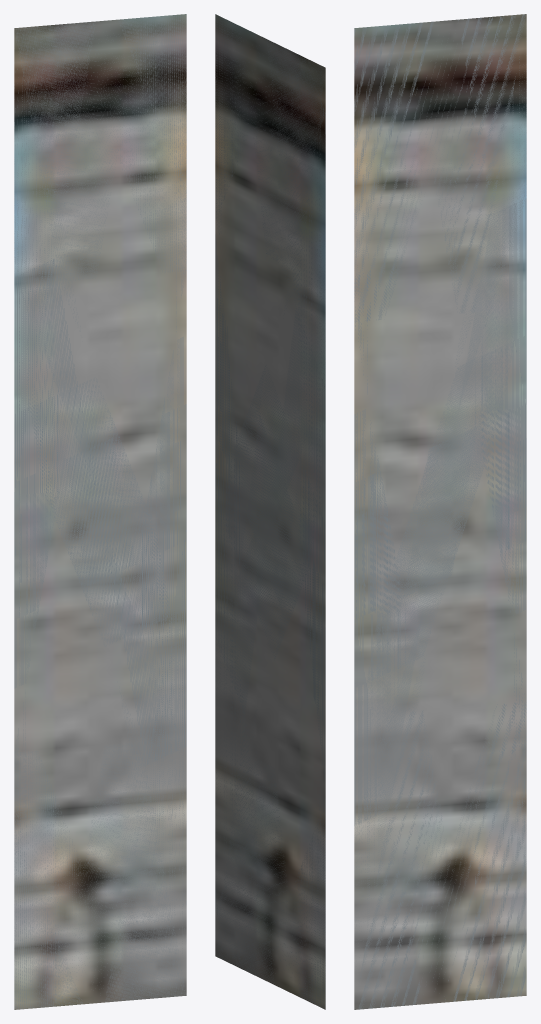
File: 西庸城堡24.dae
The picture shows the model from 3 angles, left to right: view 1: azimuth 90°, elevation 25°; view 2: azimuth 210°, elevation 25°; view 3: azimuth 270°, elevation 25°; orthographic projection. The views are drawn at different scales.
Visible parts, largest first — view 1: SketchUp; view 2: SketchUp; view 3: SketchUp.
Part boxes in pixels (left/top/right/bottom): SketchUp: left=14, top=14, right=186, bottom=1009; SketchUp: left=215, top=14, right=325, bottom=1009; SketchUp: left=354, top=14, right=526, bottom=1009.
Size of the model in its own units: 4.51 by 23.19 by 146.
